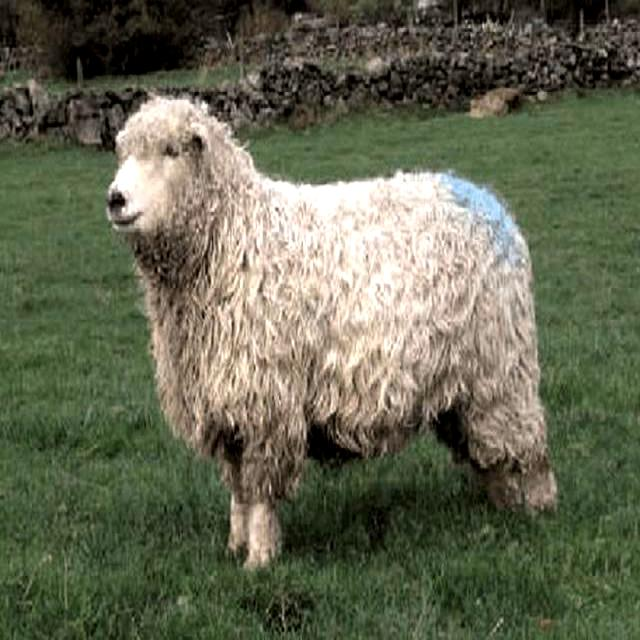sheep: (109, 98, 562, 564)
